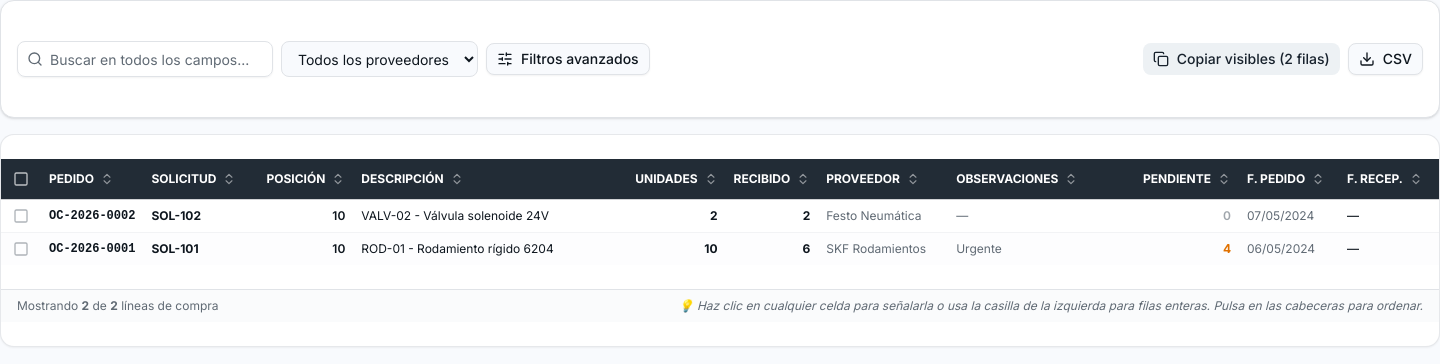
Test: HistorySection component › permite seleccionar una fila entera haciendo clic en el checkbox selector
The width and height of the screenshot is (1440, 364).
Step 1. Click the button titled "Seleccionar todas las celdas de esta fila" next to "OC-2026-0002" → coordinates (21, 216), box [9, 208, 33, 224]
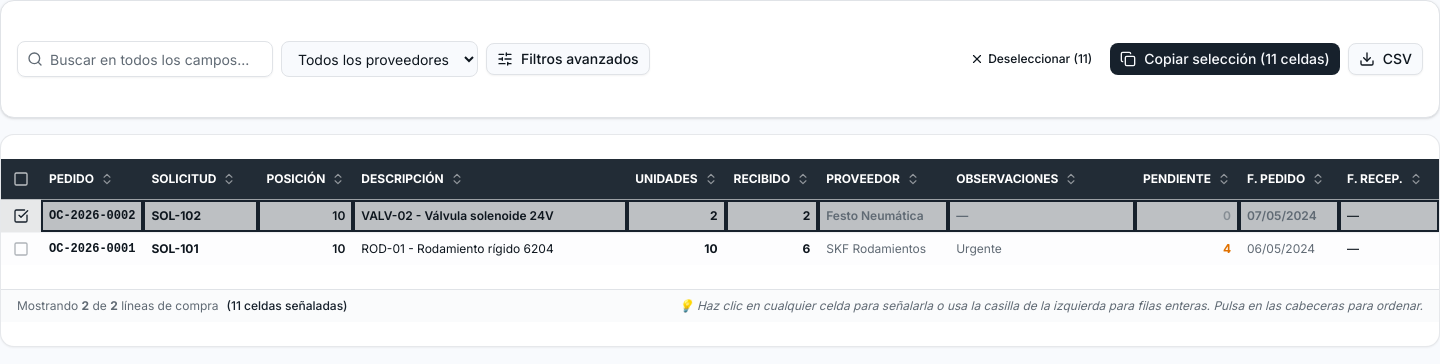
Expected: the text "celdas señaladas" is shown, [241, 298, 348, 312]
